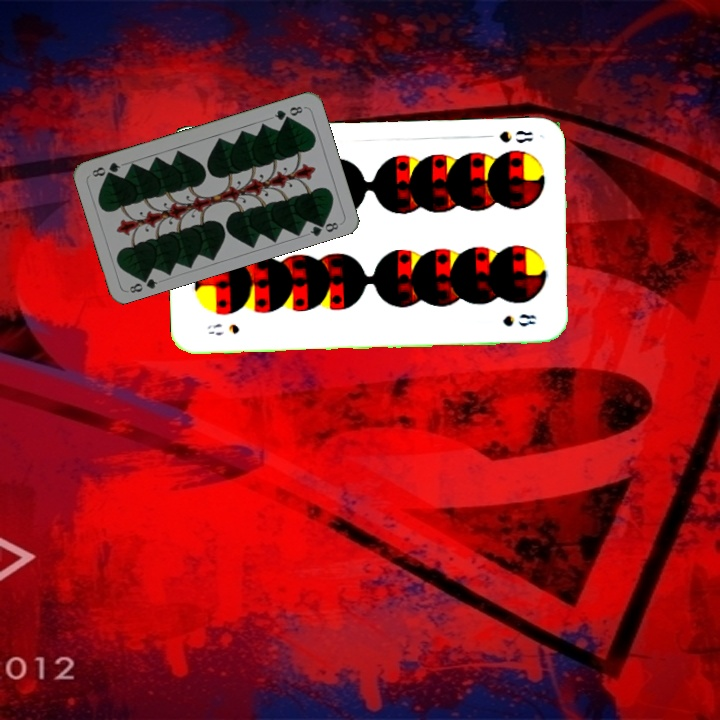G8: (125, 271, 160, 296), (270, 102, 305, 123)
S8: (495, 126, 536, 146), (203, 319, 242, 338)
